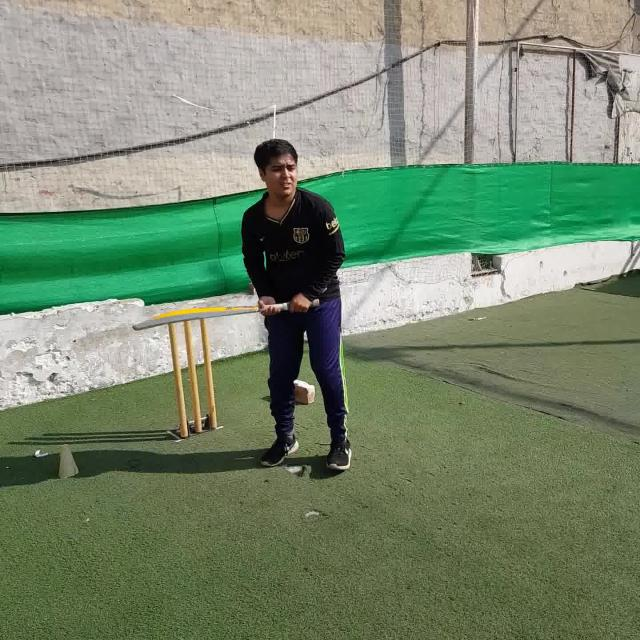bat: (133, 300, 320, 328)
